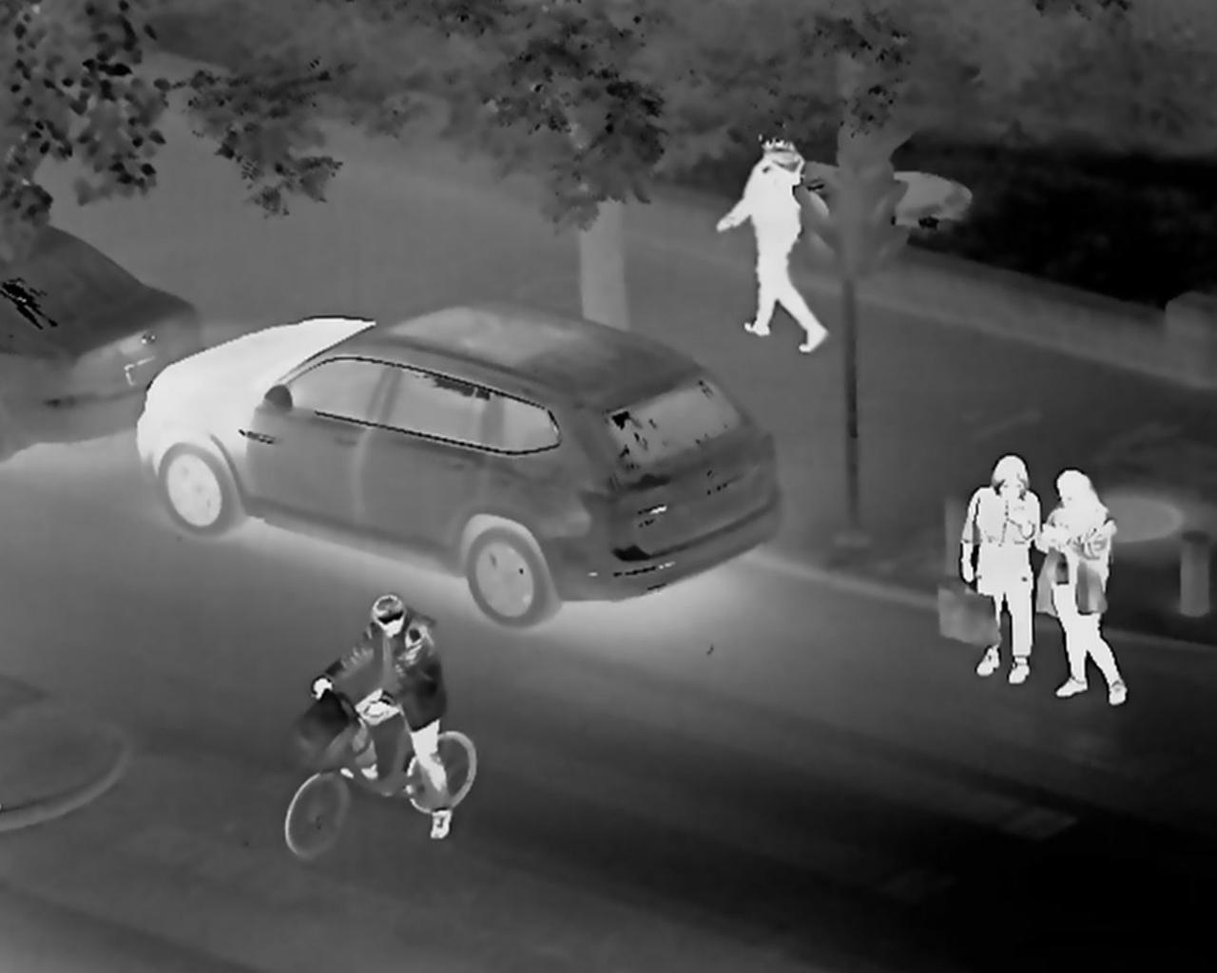person: (342, 597, 474, 829), (1056, 459, 1157, 748), (945, 440, 1048, 704), (753, 113, 843, 326)
